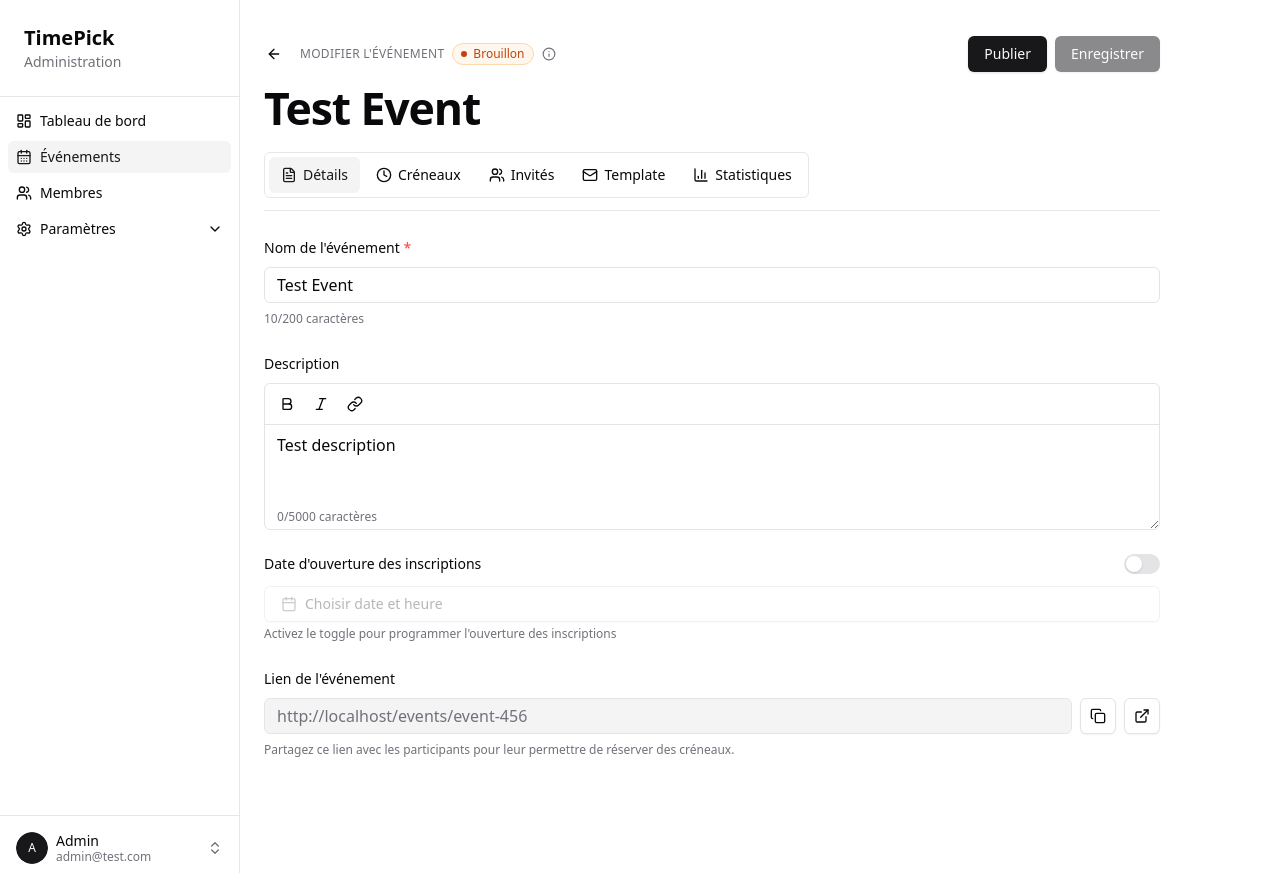
Test: EventEditPage › Edit Mode › affiche le graphe des pics d'inscription dans l'onglet Statistiques
Click the radio button labelled "Statistiques" at (743, 175), box [681,157,804,193]
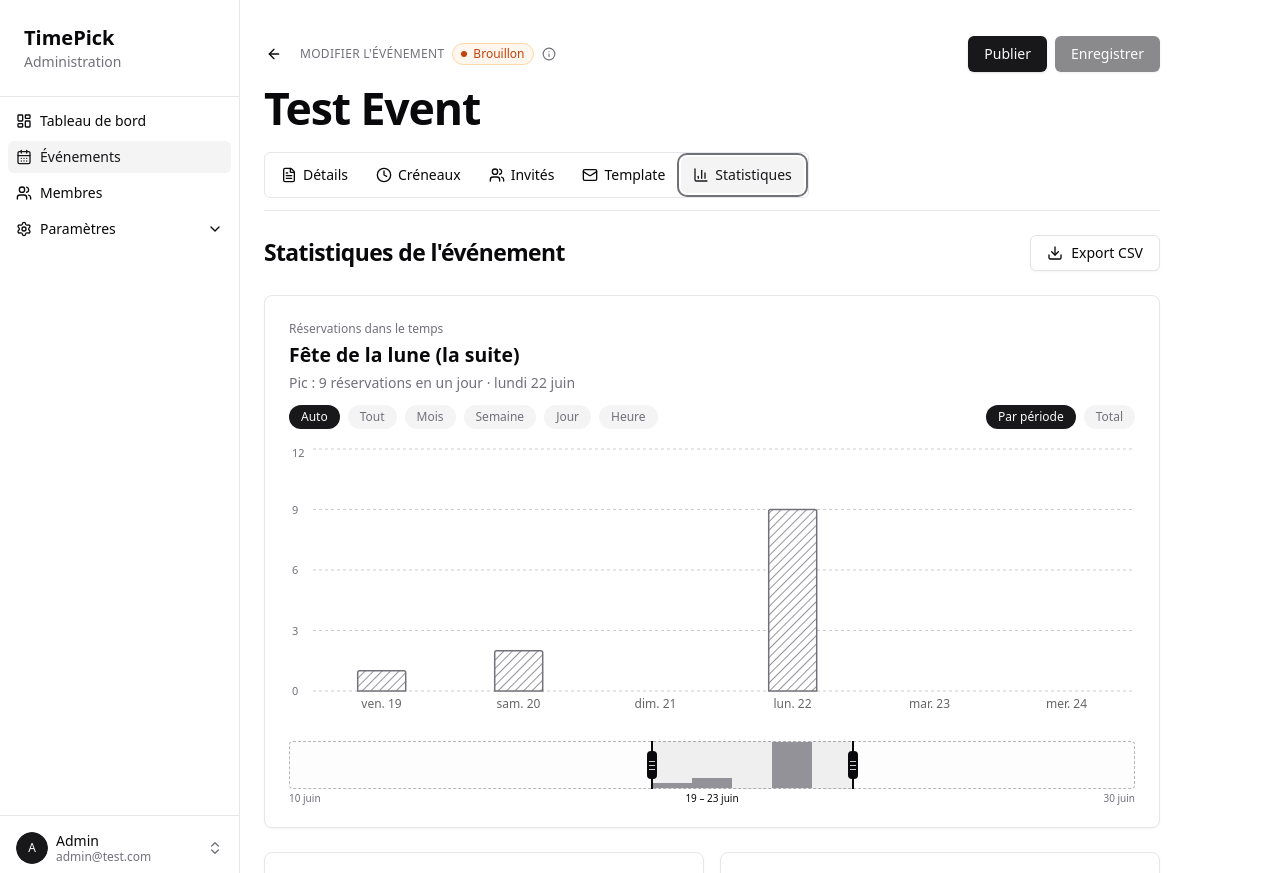
Result: the text "Fête de la lune (la suite)" is shown at [289,341,520,368]
